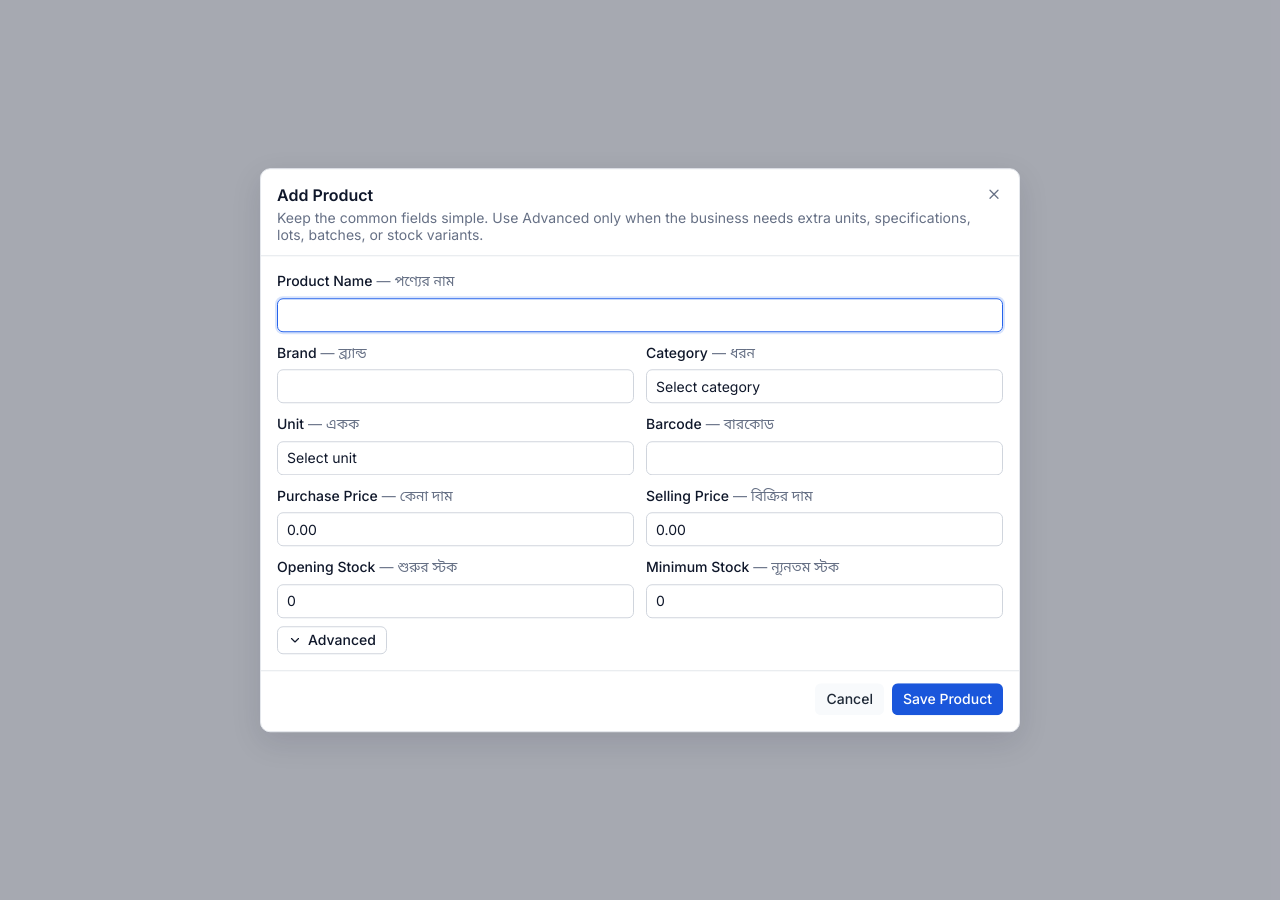
Test: ProductFormDialog › keeps advanced help compact and groups alternative-unit controls
Step 1. Click the button "Advanced" → (332,640), box 277,626 -> 387,654
(page scrolled)
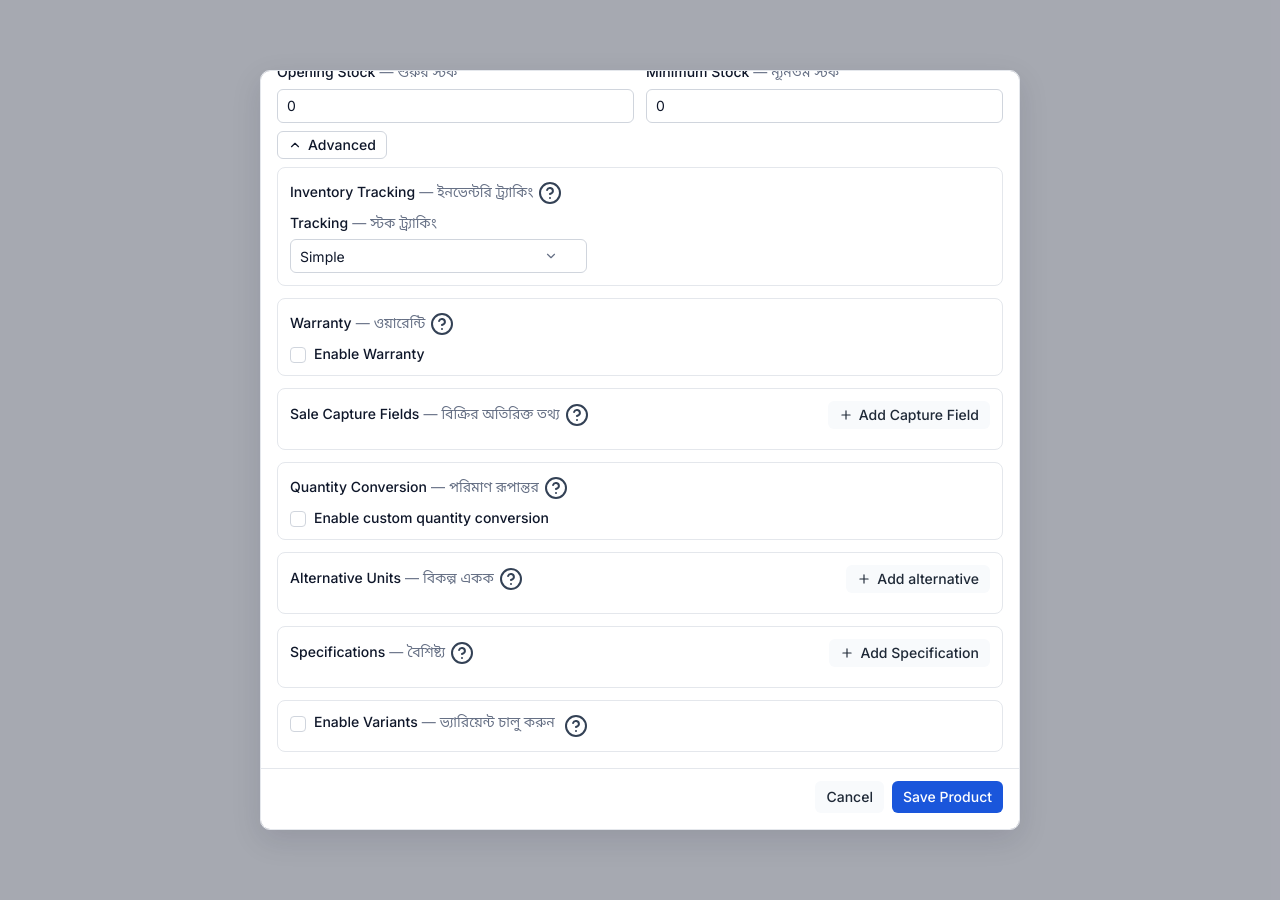
Now the button named "About Alternative Units" is shown, box 498,566 -> 524,592
Now the button with aria-label "Add alternative unit" reads "Add alternative"
Step 2. Click the button with aria-label "Add alternative unit" → (918,579), box 846,565 -> 990,593
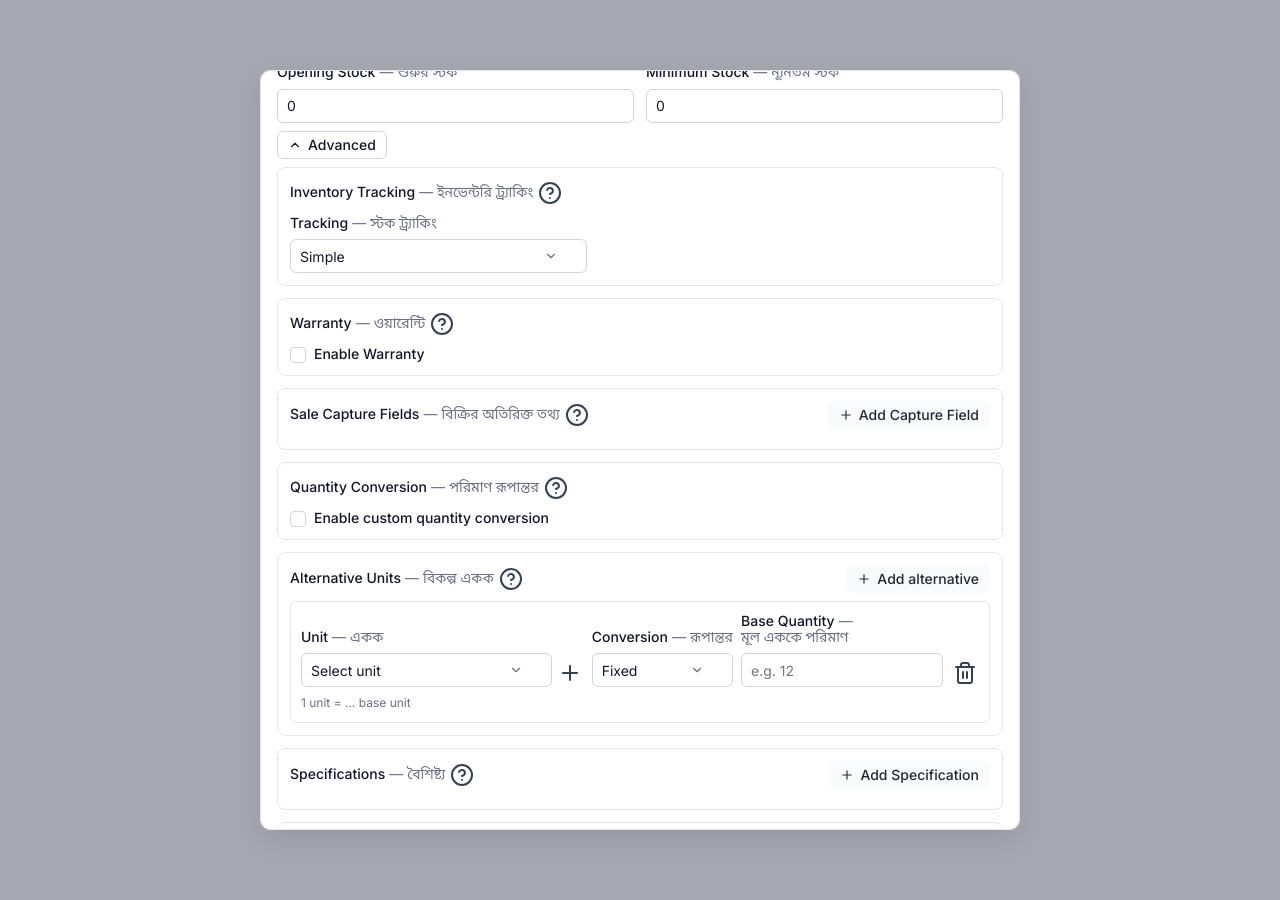
Now the element named "Alternative unit 1" is shown, box 290,601 -> 990,723
Now the button named "Add Unit for alternative 1" is shown, box 556,659 -> 584,687
